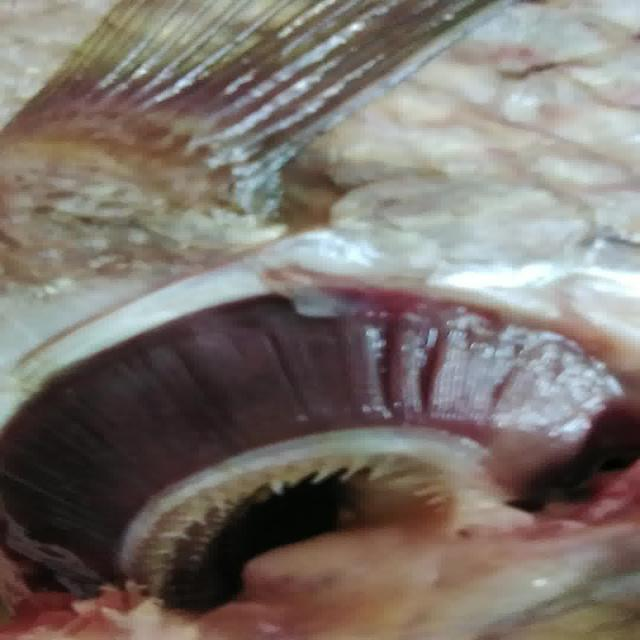Non-Fresh: (12, 278, 583, 576)
